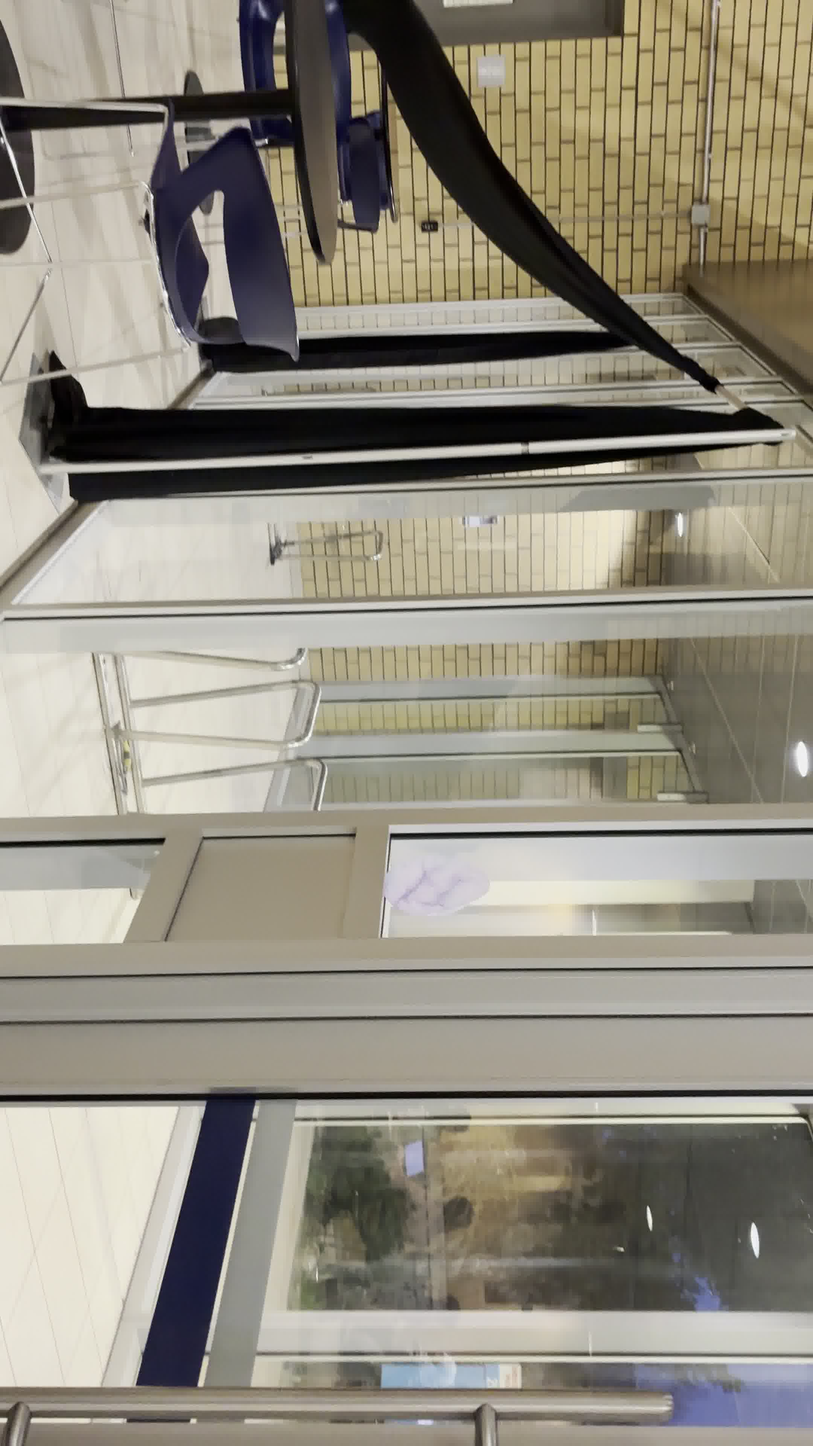Target: (381, 851, 493, 918)
